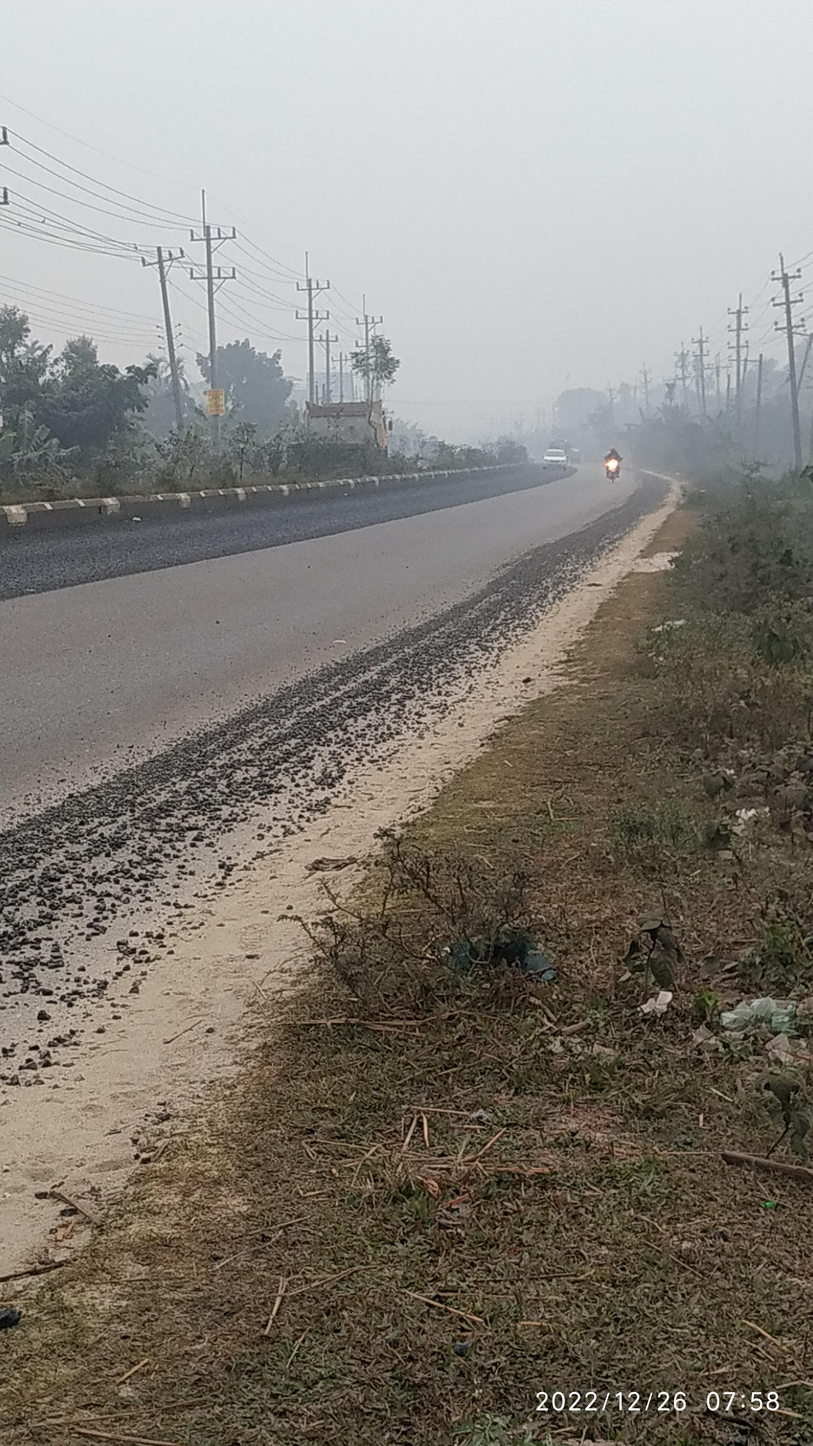Bike: (594, 438, 635, 492)
Car: (534, 441, 571, 471)
Truck: (287, 367, 412, 486)
